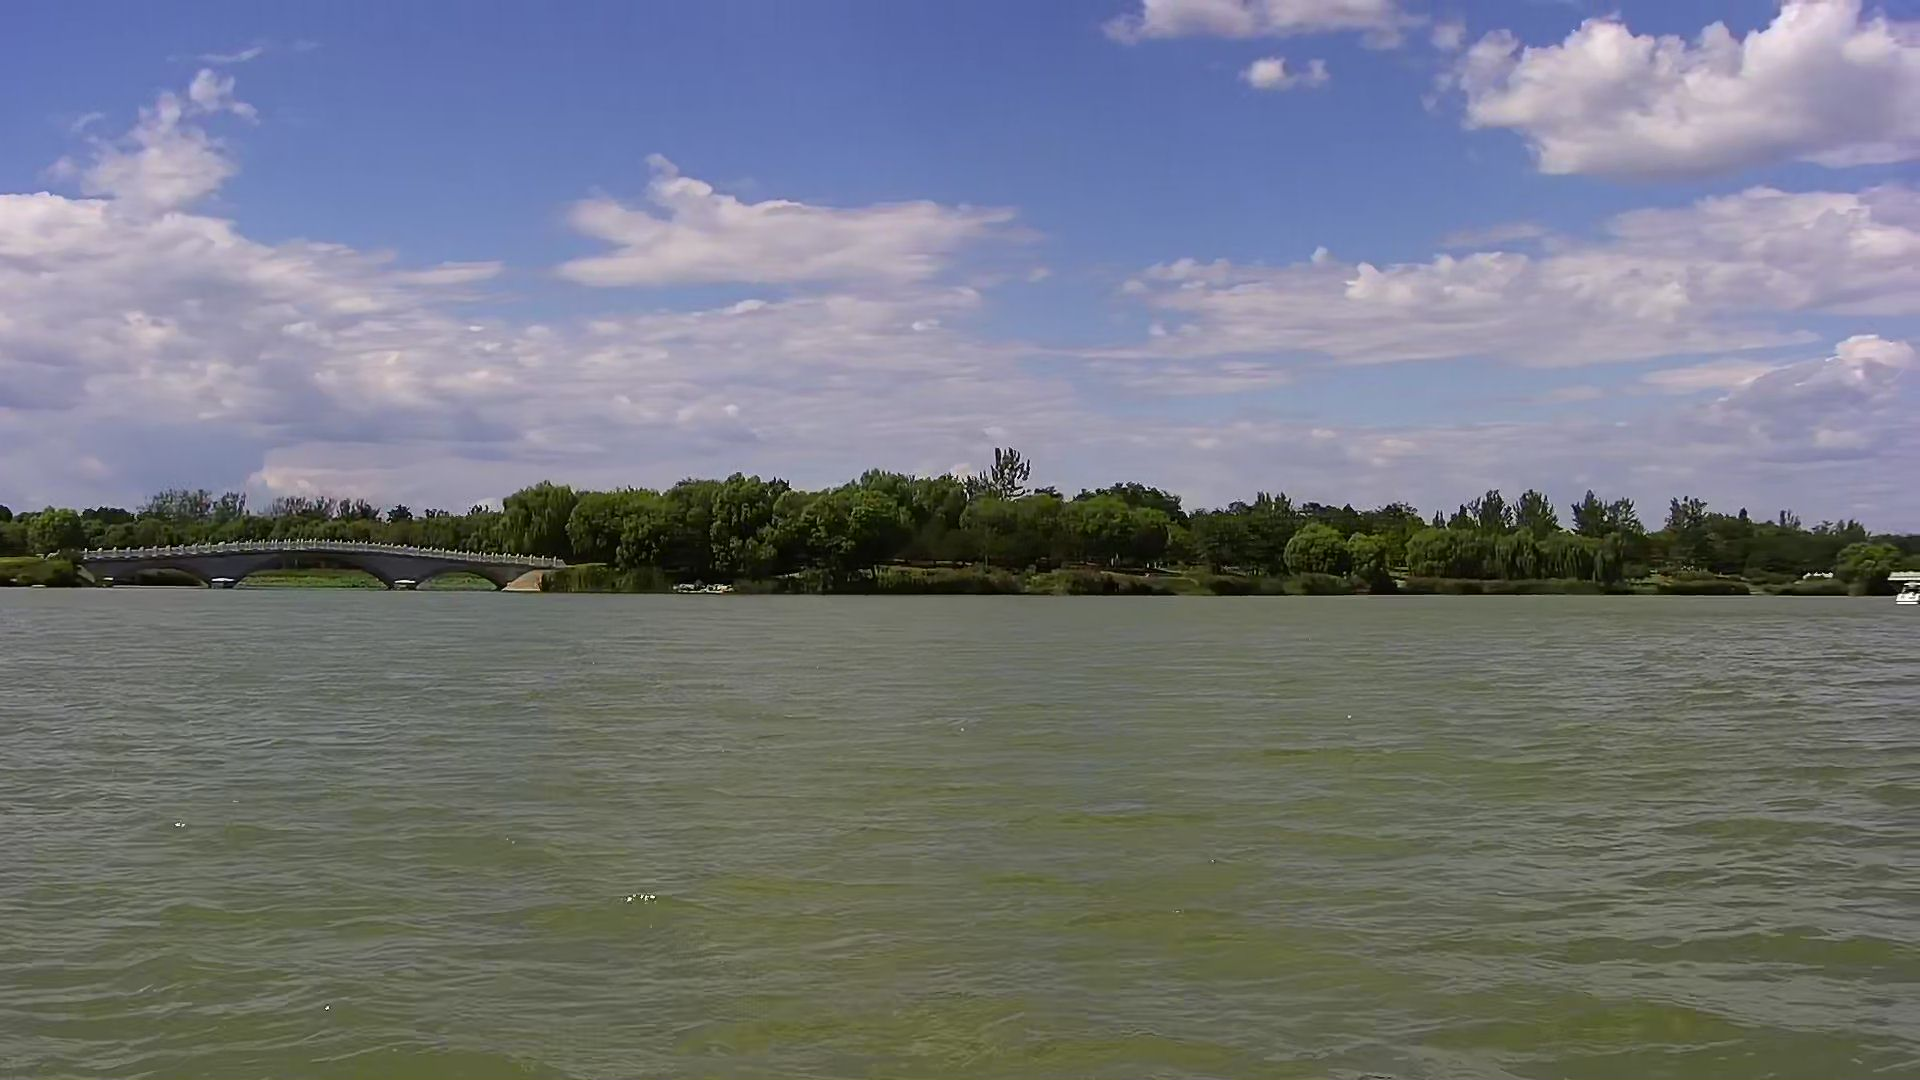bridge: (66, 527, 588, 593)
